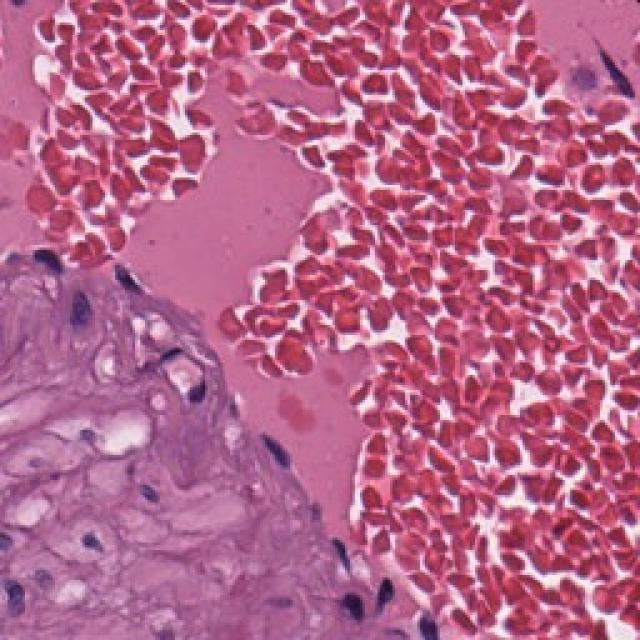normal: (290, 518, 378, 600), (76, 229, 153, 319), (15, 212, 74, 313), (364, 593, 460, 640), (253, 403, 307, 485)
